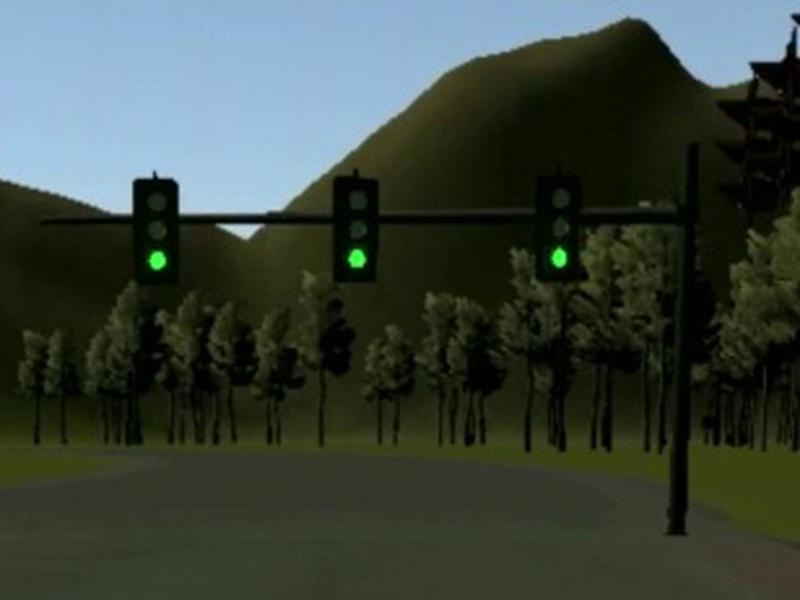Green: (332, 176, 380, 282), (535, 174, 582, 280), (135, 179, 180, 283)
